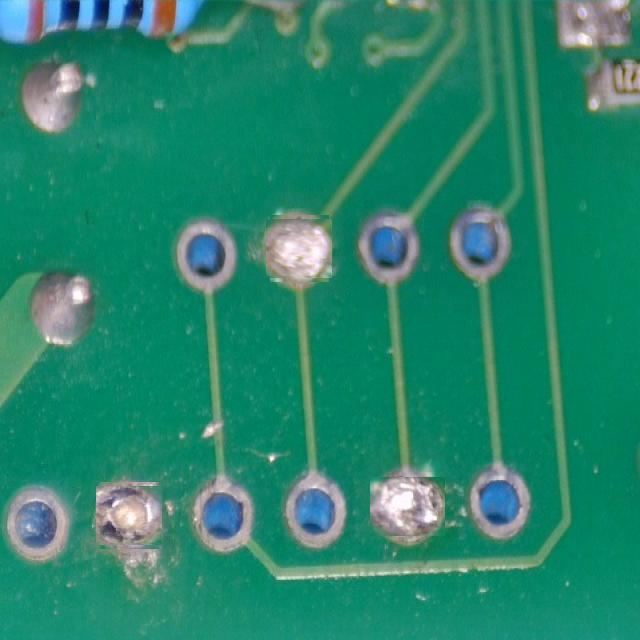Dry_joint: (370, 476, 445, 536), (267, 219, 331, 277), (97, 486, 161, 544)
